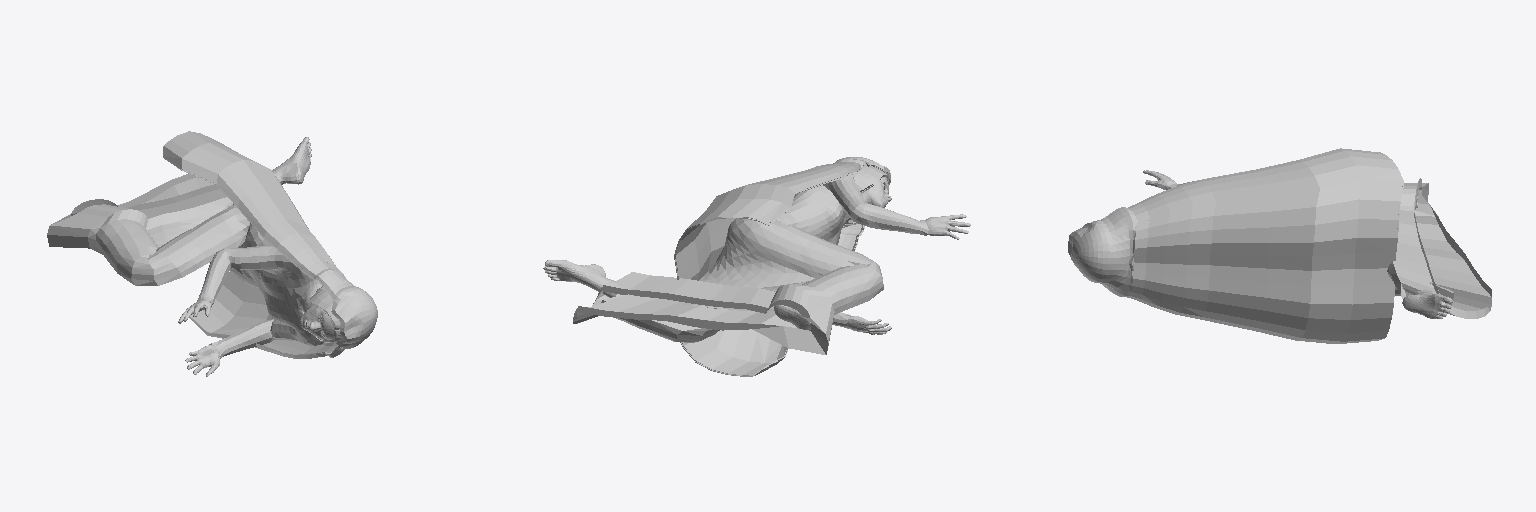
Rendered from virginMary (version 2).obj.
The picture shows the model from 3 angles: view 1: azimuth 30°, elevation 25°; view 2: azimuth 150°, elevation 25°; view 3: azimuth 270°, elevation 25°; orthographic projection.
Parts seen in each view (by area): view 1: Material2-material, Material12-material, Material9-material.001, Material5-material; view 2: Material2-material, Material12-material, Material9-material.001, Material5-material; view 3: Material12-material, Material2-material, Material9-material.001.
Part boxes in pixels (x1,y1,x2,y2): Material2-material: (47, 174, 323, 358); Material12-material: (163, 131, 377, 358); Material9-material.001: (178, 137, 334, 376); Material5-material: (310, 262, 342, 342); Material2-material: (573, 174, 928, 354); Material12-material: (674, 157, 890, 376); Material9-material.001: (543, 177, 970, 334); Material5-material: (843, 165, 888, 227); Material12-material: (1068, 148, 1403, 343); Material2-material: (1169, 178, 1491, 318); Material9-material.001: (1143, 170, 1452, 318).
Size of the model in its own units: 2.13 by 1.3 by 2.81.